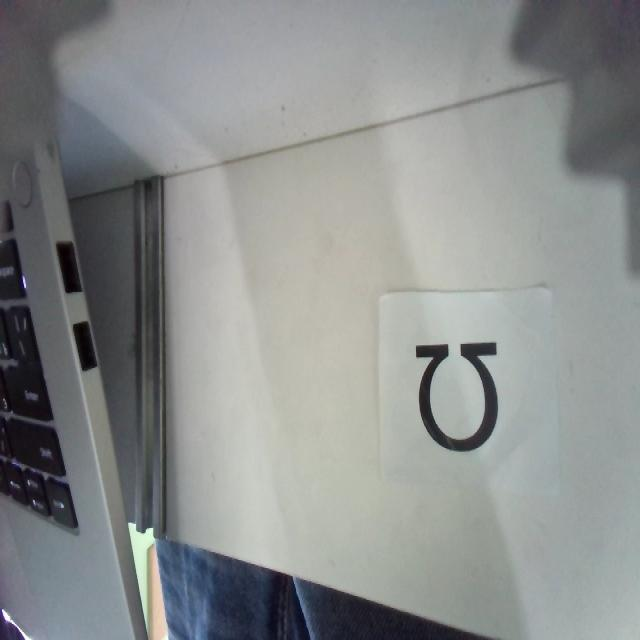OM: (413, 340, 499, 451)
